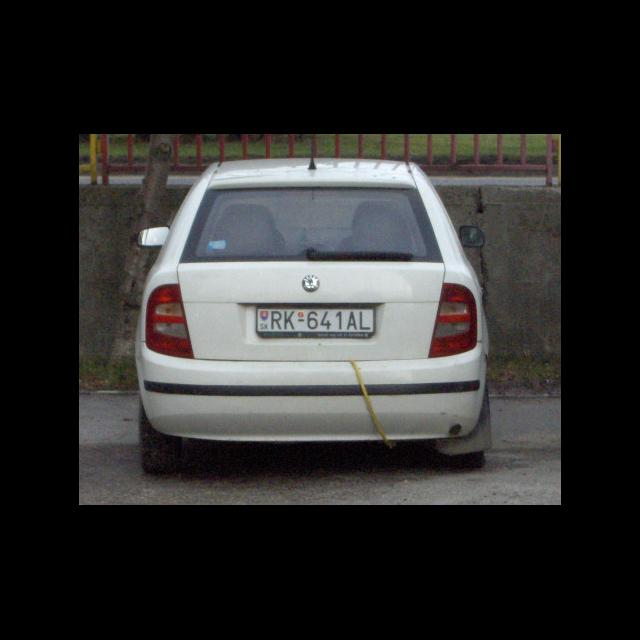Plate: (254, 304, 376, 338)
